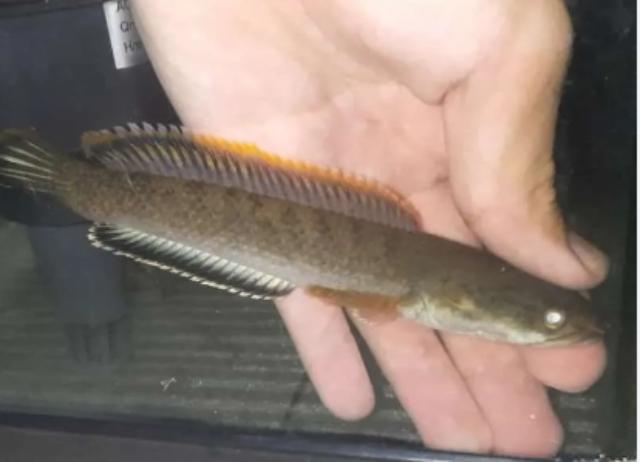Mulut: (520, 304, 614, 360)
Sirip Anal: (85, 216, 295, 308)
Sirip Dada: (299, 273, 419, 339)
Sirip Ekor: (1, 113, 62, 207)
Sirip Punggung: (72, 108, 434, 240)
